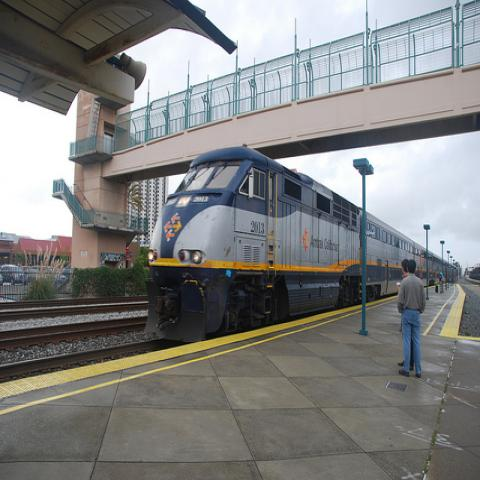car: (0, 264, 28, 286)
